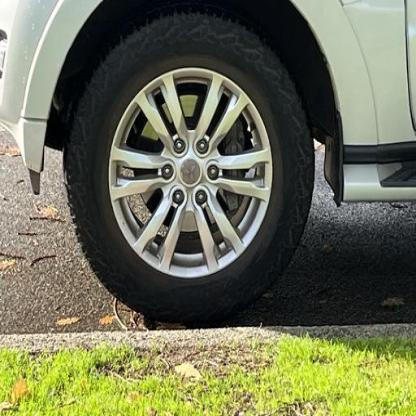Tire: (64, 11, 315, 326)
